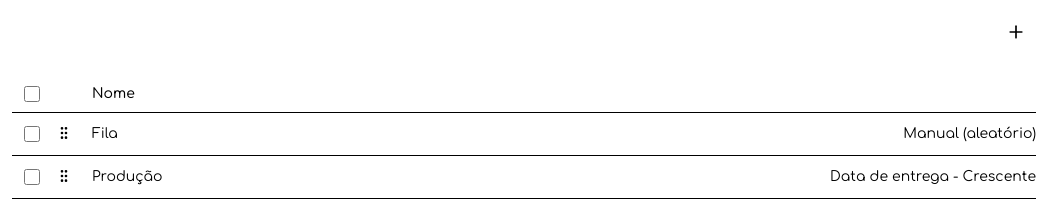
Scenario: StepManager › shows bulk delete after selecting a step
Step 1. Click the checkbox named "Selecionar Fila" → [32, 134], box x1=24 y1=126 x2=40 y2=142
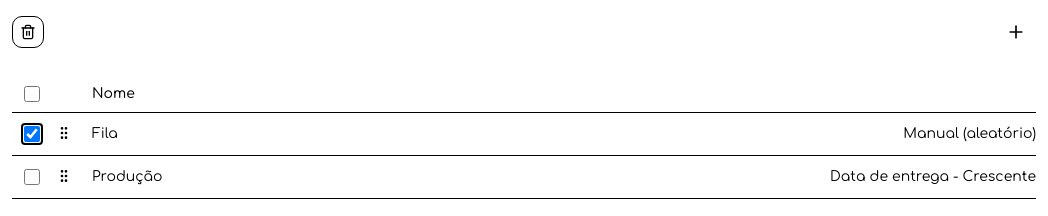
Expected: the button named "Excluir selecionadas" is shown, x1=12 y1=16 x2=44 y2=48
